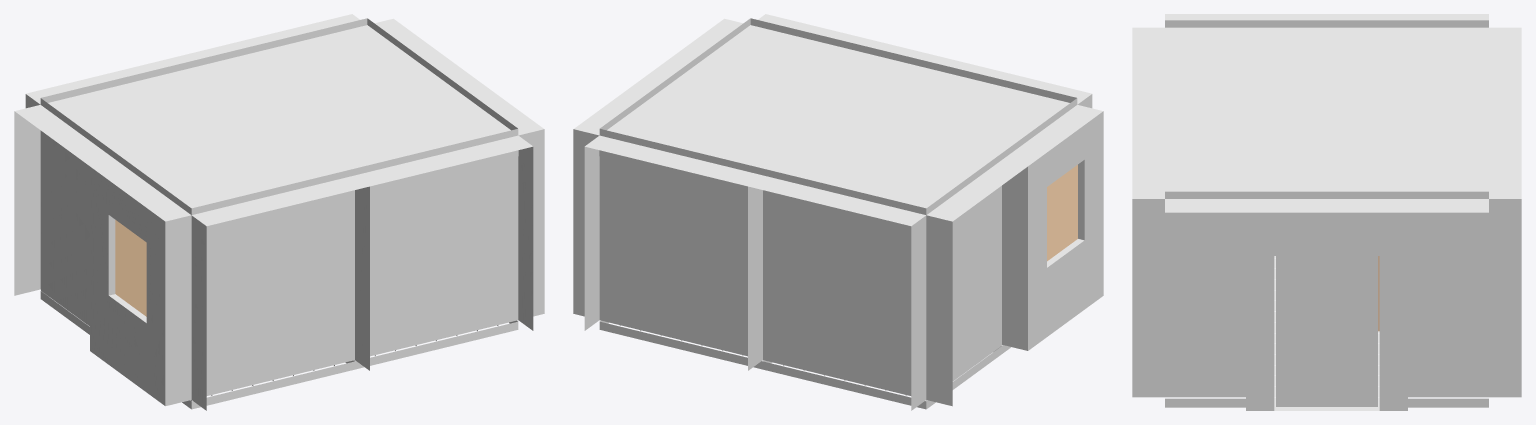
The model's file is int_morada_habitacion.glb.
The picture shows the model from 3 angles, left to right: view 1: azimuth 30°, elevation 25°; view 2: azimuth 150°, elevation 25°; view 3: azimuth 270°, elevation 25°; orthographic projection. The views are drawn at different scales.
Parts seen in each view (by area): view 1: INT_Morada_Habitacion_WALL_Near_A, INT_Morada_Habitacion_CEILING, INT_Morada_Habitacion_Shell, INT_Morada_Habitacion_WALL_Near_B; view 2: INT_Morada_Habitacion_Shell, INT_Morada_Habitacion_CEILING, INT_Morada_Habitacion_WALL_Near_B, INT_Morada_Habitacion_WALL_Near_A; view 3: INT_Morada_Habitacion_WALL_Near_B, INT_Morada_Habitacion_CEILING, INT_Morada_Habitacion_Shell, INT_Morada_Habitacion_WALL_Near_A.
Part boxes in pixels (x1,y1,x2,y2): INT_Morada_Habitacion_WALL_Near_A: (191, 135, 533, 410); INT_Morada_Habitacion_CEILING: (40, 18, 518, 231); INT_Morada_Habitacion_Shell: (14, 14, 518, 409); INT_Morada_Habitacion_WALL_Near_B: (375, 18, 544, 316); INT_Morada_Habitacion_Shell: (584, 105, 1103, 410); INT_Morada_Habitacion_CEILING: (599, 18, 1077, 231); INT_Morada_Habitacion_WALL_Near_B: (573, 18, 742, 319); INT_Morada_Habitacion_WALL_Near_A: (758, 14, 1092, 108); INT_Morada_Habitacion_WALL_Near_B: (1165, 199, 1488, 410); INT_Morada_Habitacion_CEILING: (1164, 20, 1489, 220); INT_Morada_Habitacion_Shell: (1165, 14, 1521, 407); INT_Morada_Habitacion_WALL_Near_A: (1132, 27, 1169, 397).
Size of what is drawn, in the model's own units: 5.8 by 2.94 by 4.8.
17 materials, 15 textured.
